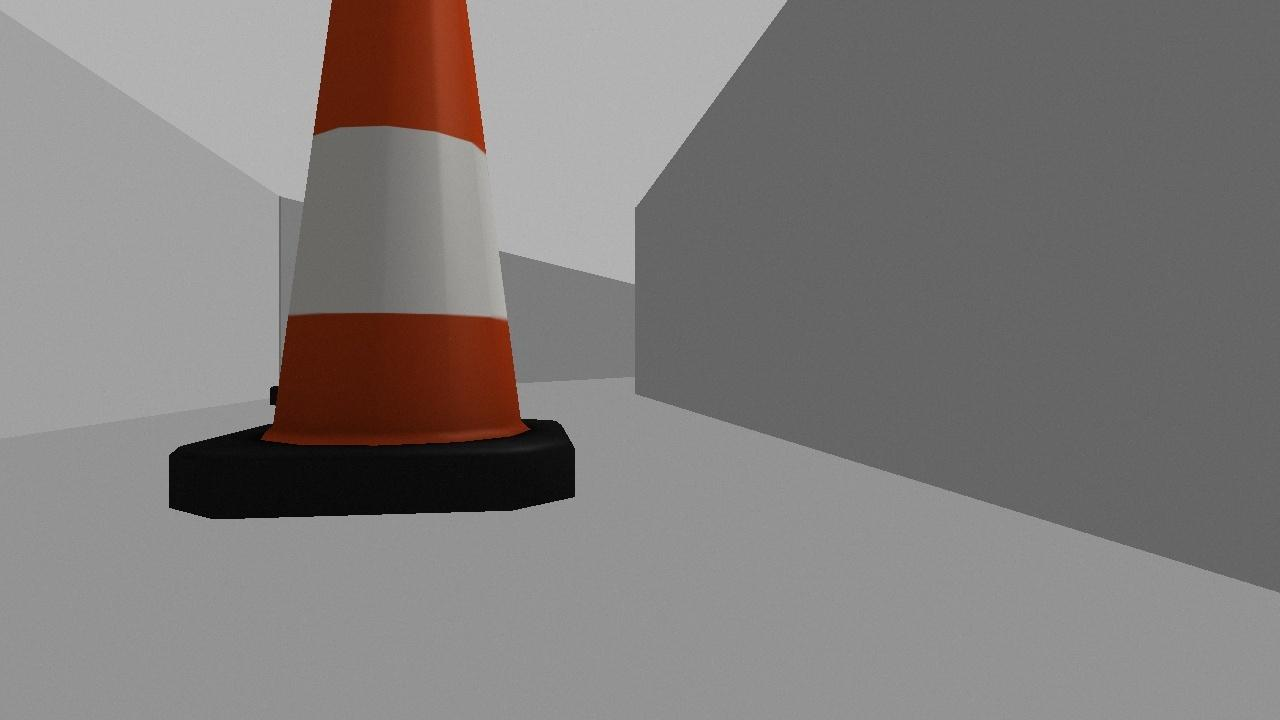cone_barrel: (168, 0, 574, 519)
